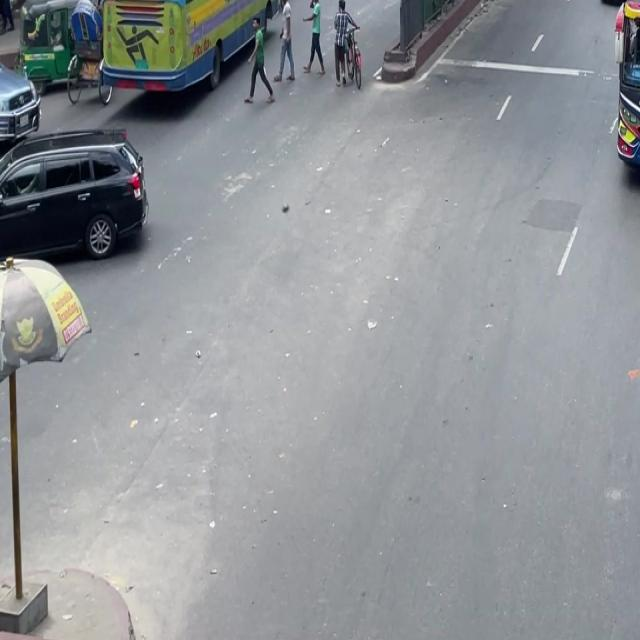bicycle: (343, 26, 372, 94)
bus: (99, 0, 281, 101), (613, 0, 640, 181)
car: (0, 112, 153, 294), (0, 56, 45, 162), (597, 0, 640, 11)
rickshaw: (10, 0, 110, 105)
